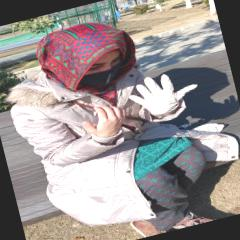gloved: (128, 66, 200, 118)
not-gloved: (79, 99, 130, 140)
